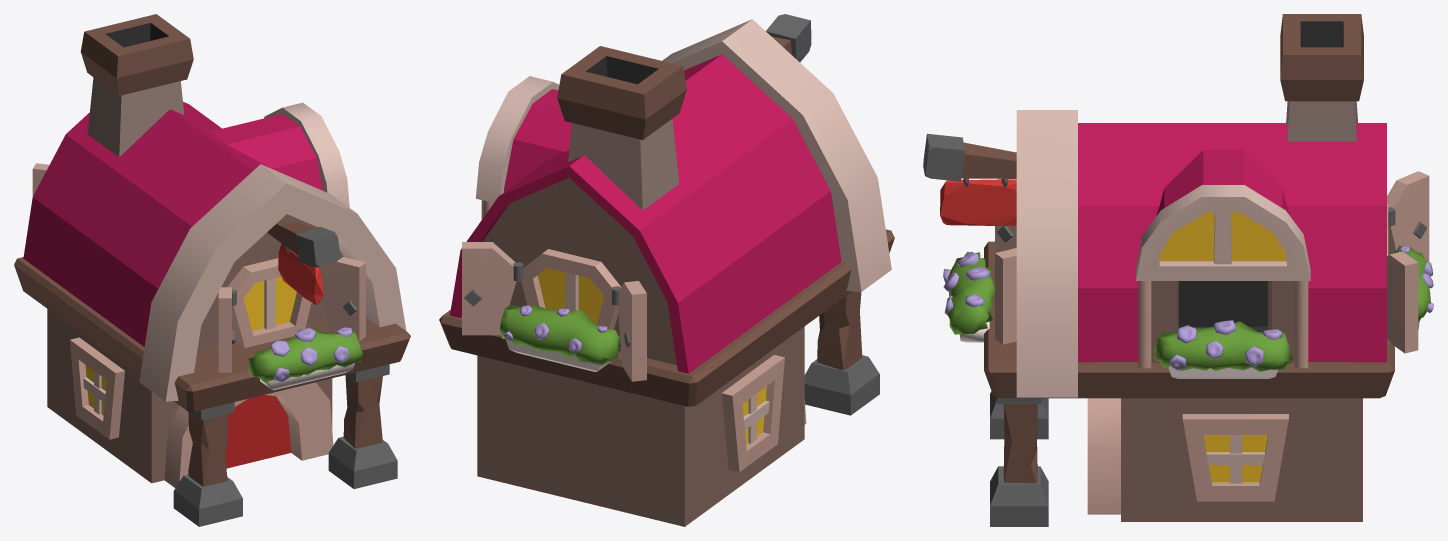
The model's file is house_007.fbx.
3 renders of one model, left to right at view 1: azimuth 30°, elevation 25°; view 2: azimuth 150°, elevation 25°; view 3: azimuth 270°, elevation 25°, orthographic. The views are drawn at different scales.
Visible parts, largest first — view 1: house_007; view 2: house_007; view 3: house_007.
Boxes of the visible parts, x1=… form: house_007: x1=14, y1=14, x2=410, y2=526; house_007: x1=439, y1=14, x2=894, y2=526; house_007: x1=923, y1=14, x2=1433, y2=526.
Bounding box in the file's own units: 473 × 695 × 641.
2 materials, 2 textured.
